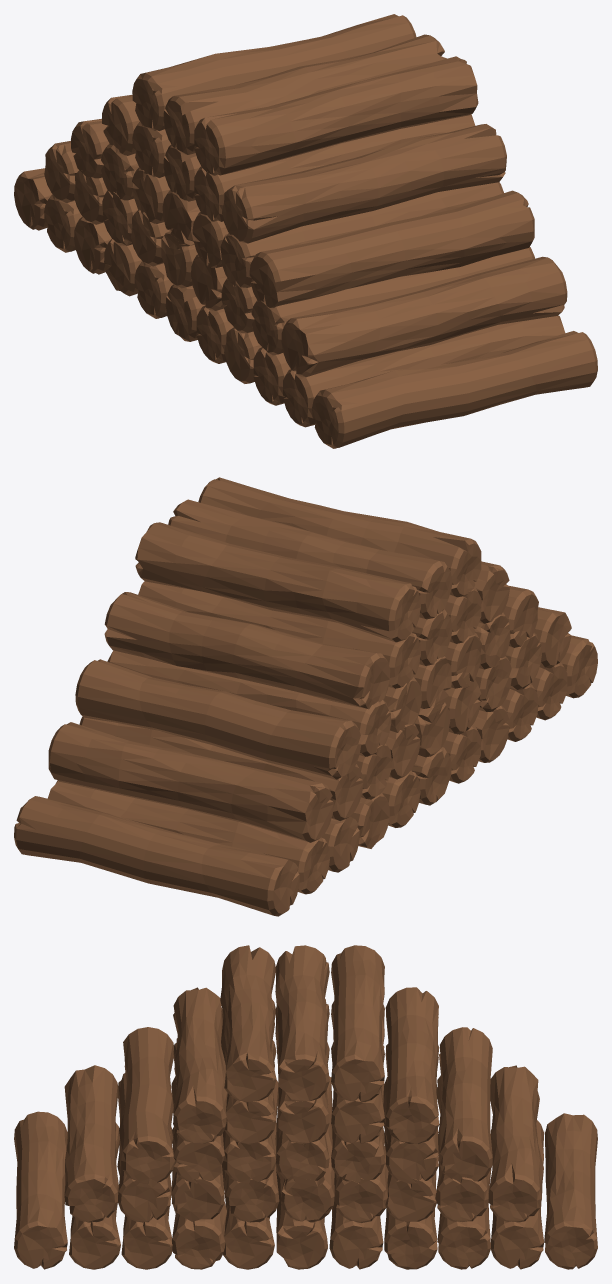
File: Firewood.fbx
3 renders of one model, top to bottom at view 1: azimuth 30°, elevation 25°; view 2: azimuth 150°, elevation 25°; view 3: azimuth 270°, elevation 25°, orthographic. The views are drawn at different scales.
Parts seen in each view (by area): view 1: Cylinder.040; view 2: Cylinder.040; view 3: Cylinder.040.
Part boxes in pixels (box(x1,y1,x2,y2)): Cylinder.040: box(14, 14, 597, 448); Cylinder.040: box(14, 477, 597, 916); Cylinder.040: box(14, 945, 597, 1269).
Size of the model in its own units: 308 by 274 by 666.
